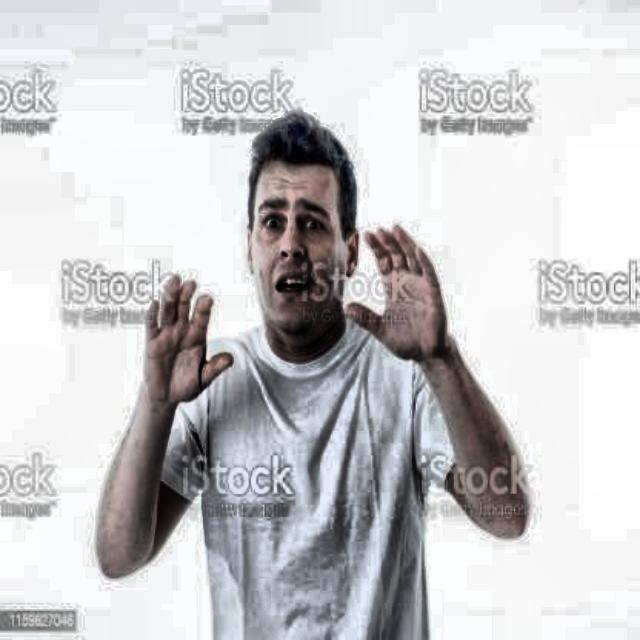fear: (230, 108, 386, 352)
